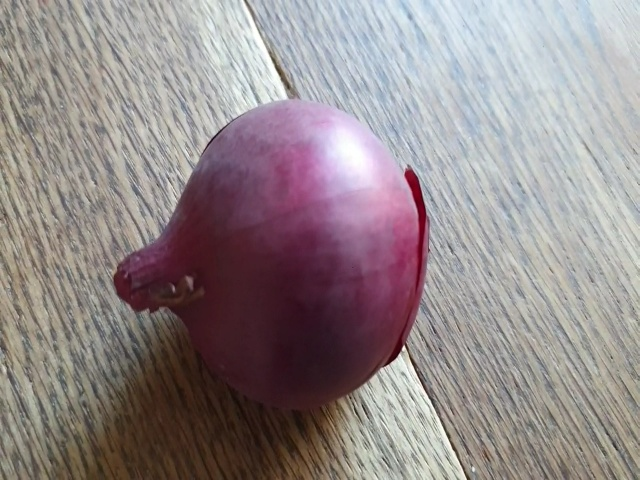red_onion: (110, 91, 436, 414)
